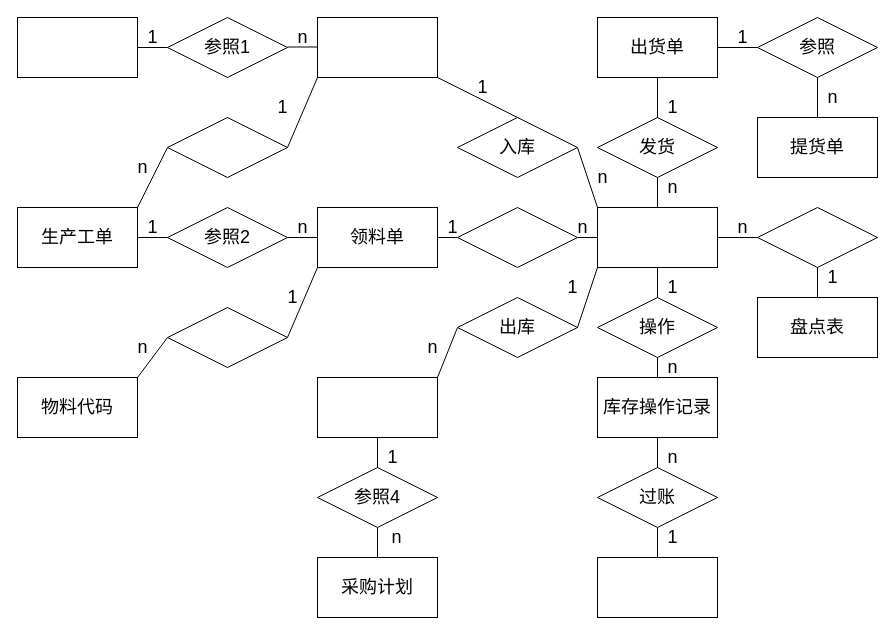
This 895x635 diagram has some shape labels left out. The shapes that lost their labels are listed below. From the top down, each one's centre as x and y in pixels, then its label:
the point at 77,47: 收货单
the point at 377,47: 入库单
the point at 227,147: 完工
the point at 517,237: 领料
the point at 657,237: 物品库存
the point at 817,237: 调库
the point at 227,337: 参照3
the point at 377,407: 发外加工单
the point at 657,587: 过账凭证
